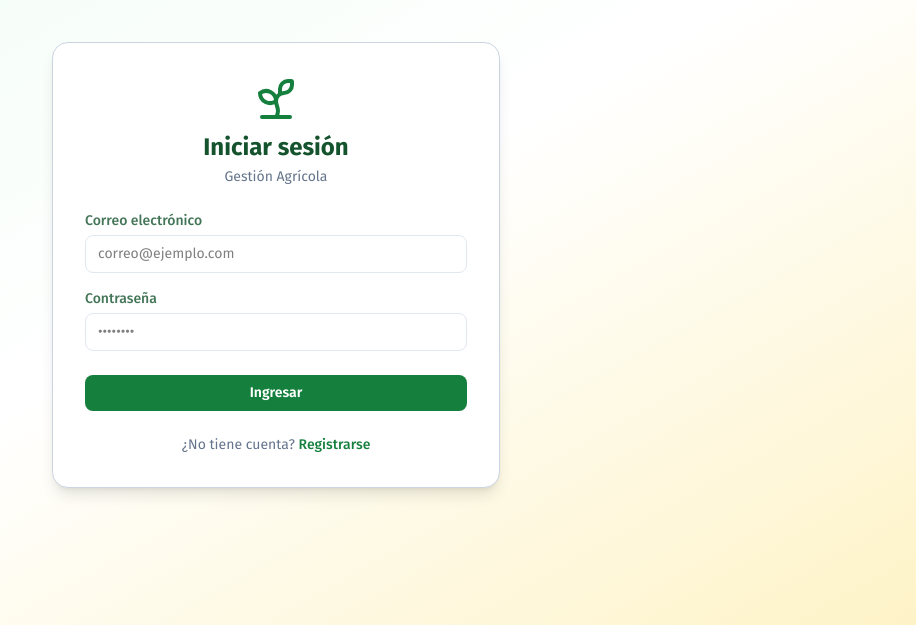
Test: LoginPage › displays error on invalid credentials (401)
Type "bad@test.com" into the field labelled "Correo electrónico".
click(276, 254); type("bad@test.com")  # box 85,235 -> 467,273
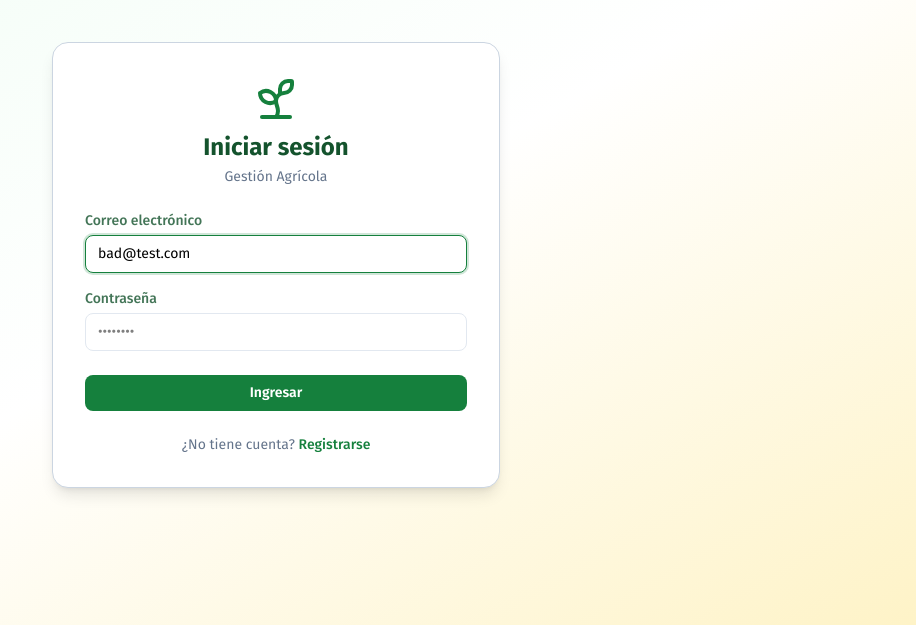
Type "wrong" into the password field labelled "Contraseña".
click(276, 332); type("wrong")  # box 85,313 -> 467,351
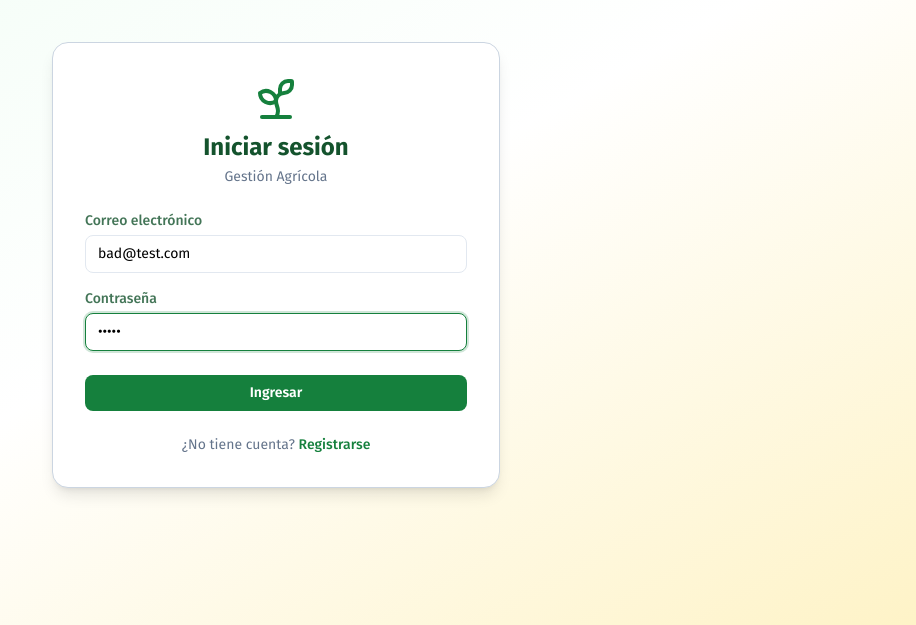
Click the button "Ingresar".
click(276, 393)  # box 85,375 -> 467,411
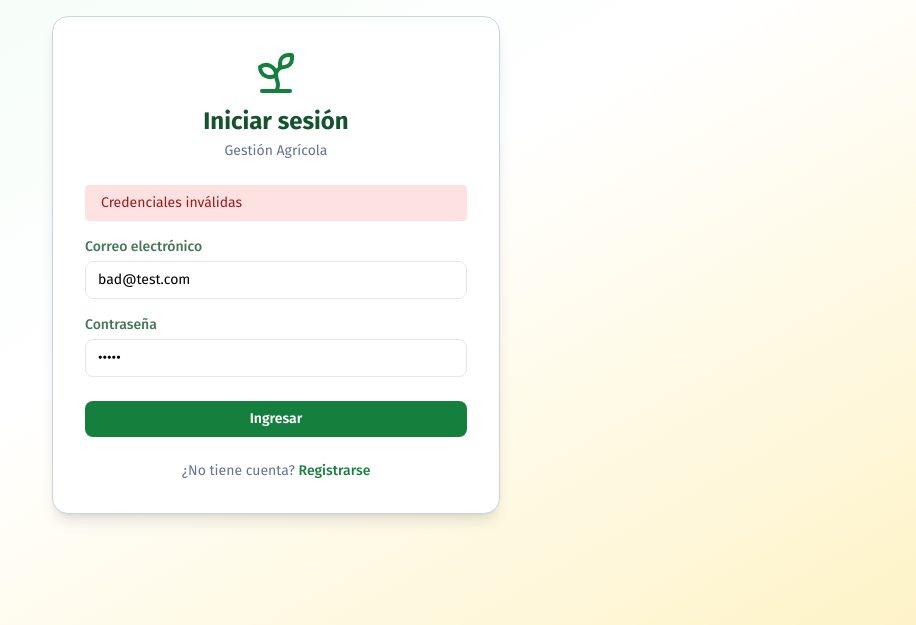
Result: the text "Credenciales inválidas" is shown at 85,185 -> 467,221
